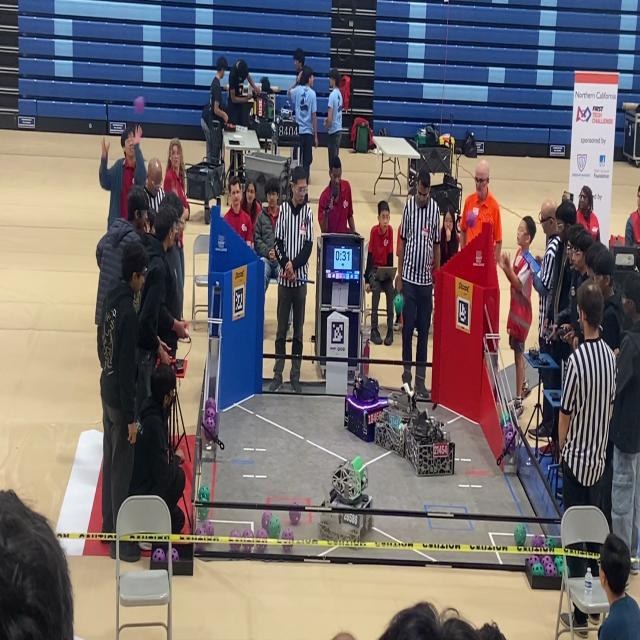artifact_green: (504, 424, 516, 454), (513, 524, 527, 547), (554, 556, 569, 577), (352, 456, 363, 481), (268, 517, 281, 538), (261, 511, 272, 530), (545, 562, 558, 578), (152, 548, 166, 562), (394, 293, 403, 314), (531, 535, 544, 549), (198, 486, 210, 501), (500, 412, 511, 428), (282, 528, 294, 542), (554, 556, 563, 574), (527, 555, 539, 568), (541, 556, 554, 568), (532, 563, 544, 575), (197, 508, 209, 520), (545, 537, 555, 551), (561, 564, 570, 578), (541, 555, 552, 564), (230, 542, 240, 551), (564, 565, 570, 577)
artifact_purple: (505, 428, 516, 453), (204, 418, 215, 438), (261, 511, 272, 529), (467, 210, 478, 228), (152, 548, 166, 562), (134, 96, 144, 114), (544, 563, 557, 576), (281, 528, 294, 541), (531, 535, 544, 548), (289, 511, 301, 525), (203, 521, 214, 536), (504, 425, 513, 443), (528, 555, 539, 567), (256, 528, 267, 539), (205, 408, 215, 420), (205, 398, 215, 410), (541, 556, 553, 565), (172, 547, 179, 562), (196, 525, 206, 535), (243, 528, 253, 538), (230, 543, 240, 551)
